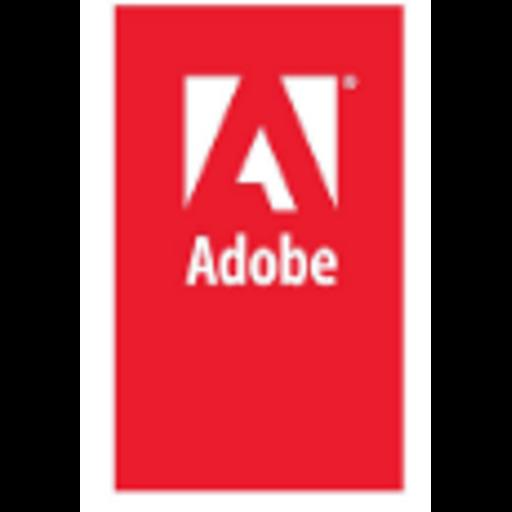Adobe: (80, 0, 431, 512)
